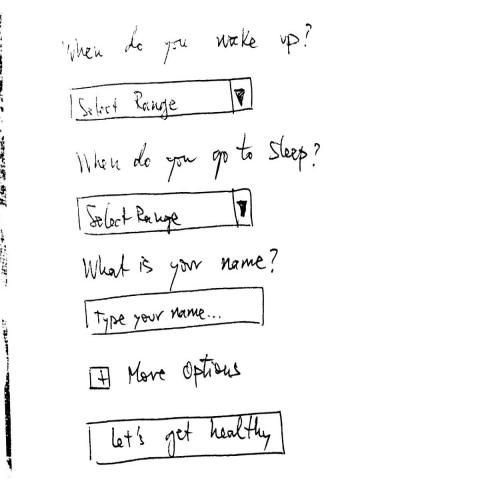Button: (86, 408, 287, 467)
Select: (75, 186, 255, 239), (68, 75, 257, 124)
